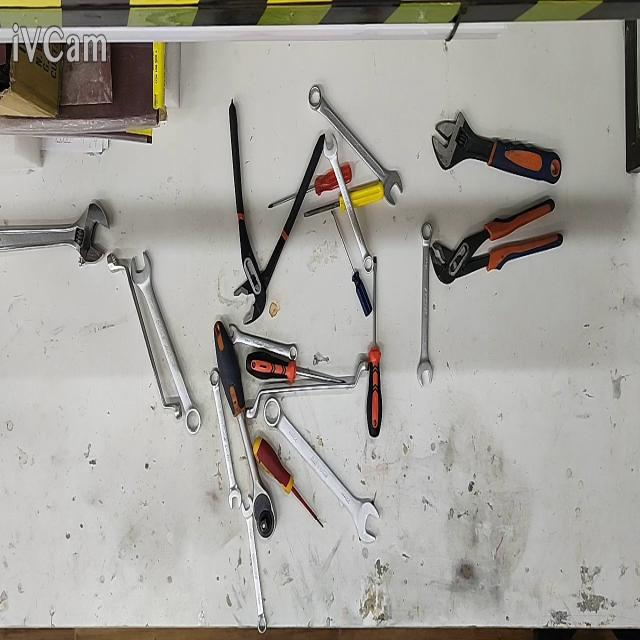Screwdriver: (252, 436, 322, 526), (331, 209, 372, 318), (268, 165, 352, 208), (246, 352, 346, 385), (305, 180, 384, 218), (367, 256, 382, 438)
